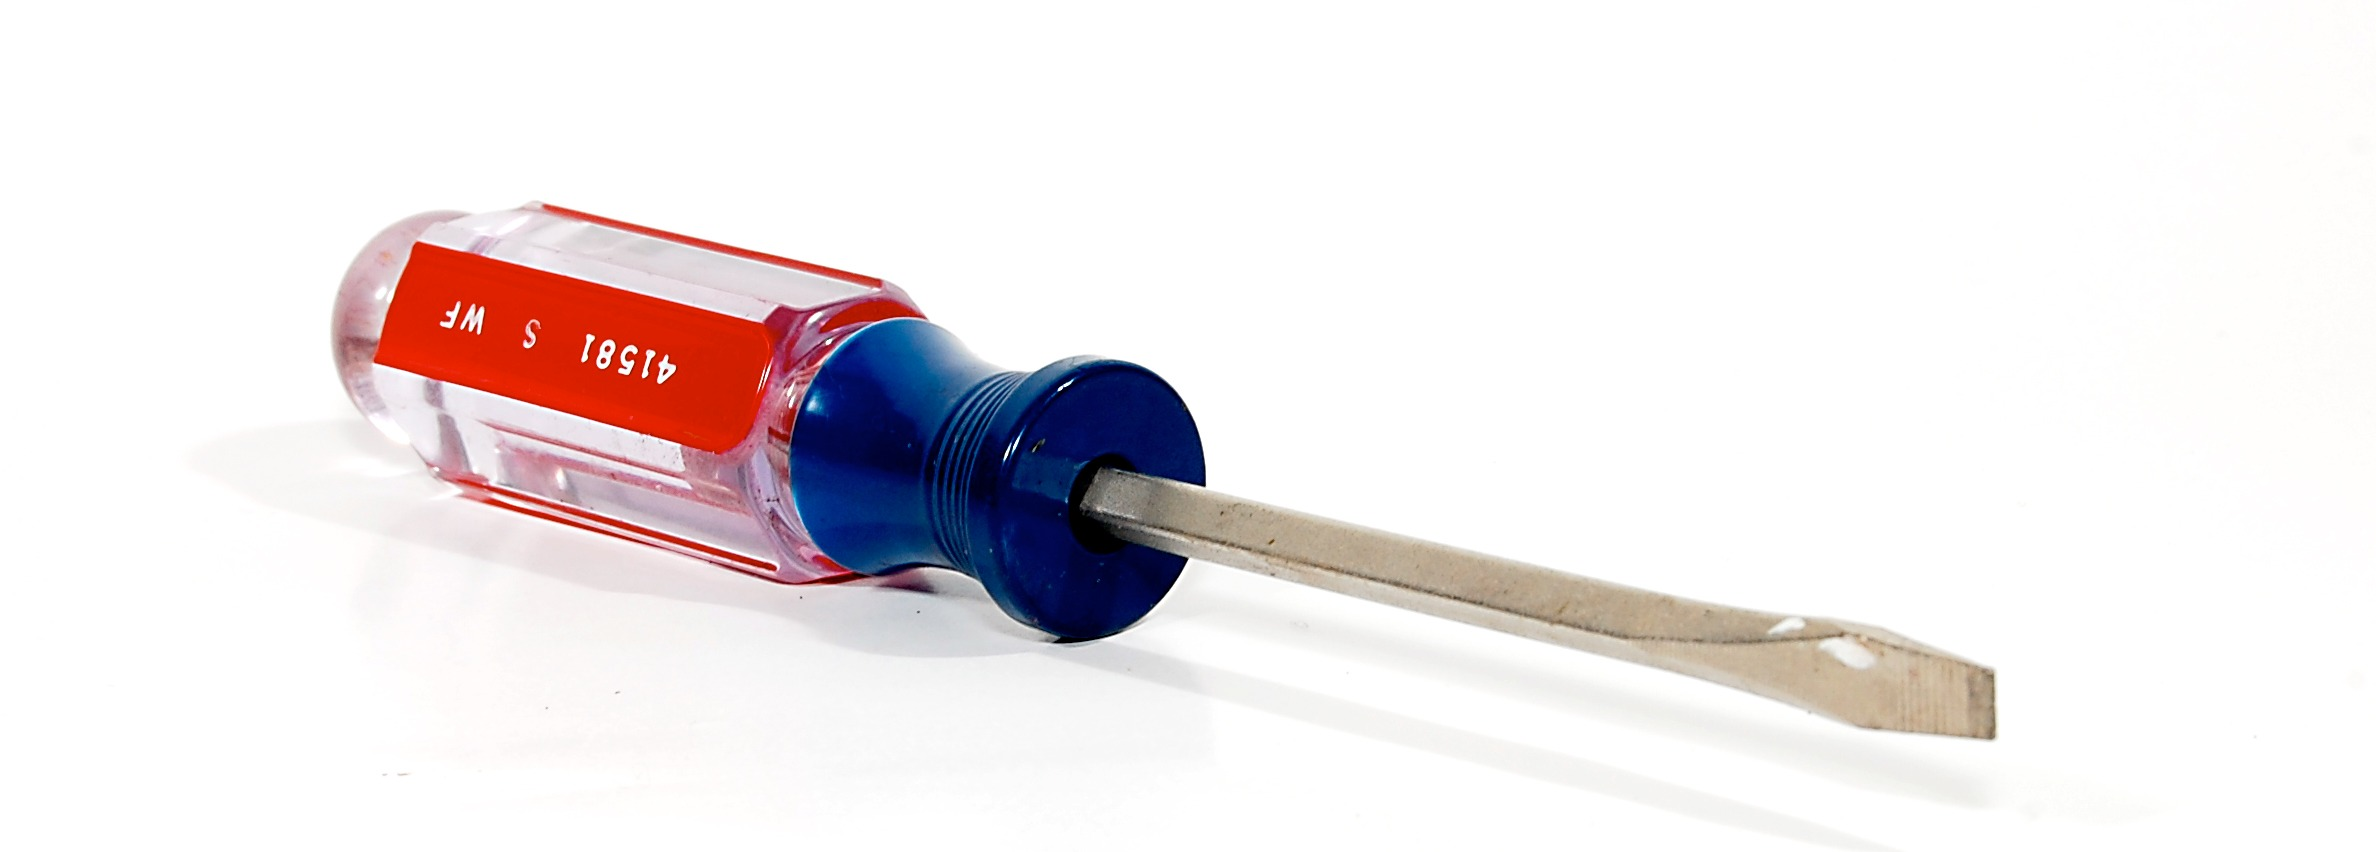screwdriver: (258, 196, 2017, 769)
